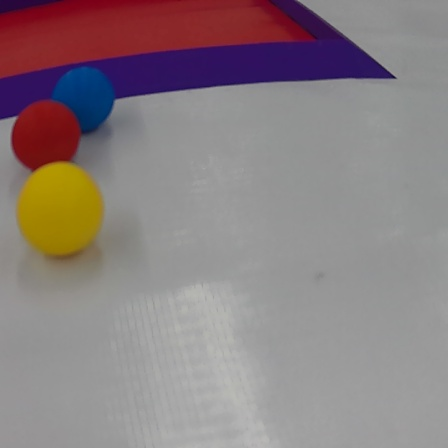blue: (52, 65, 119, 137)
red: (8, 98, 80, 169)
red_aim: (0, 0, 410, 122)
yellow: (18, 161, 108, 265)
